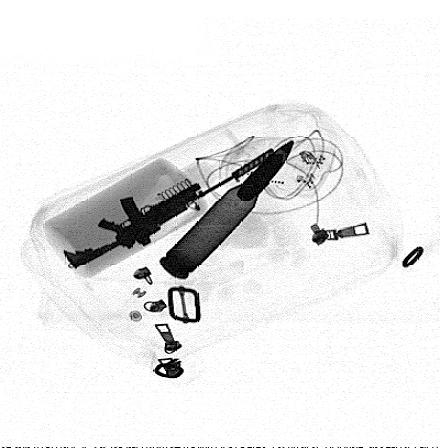Bullet: (159, 139, 297, 281)
Gun: (64, 148, 275, 270)
